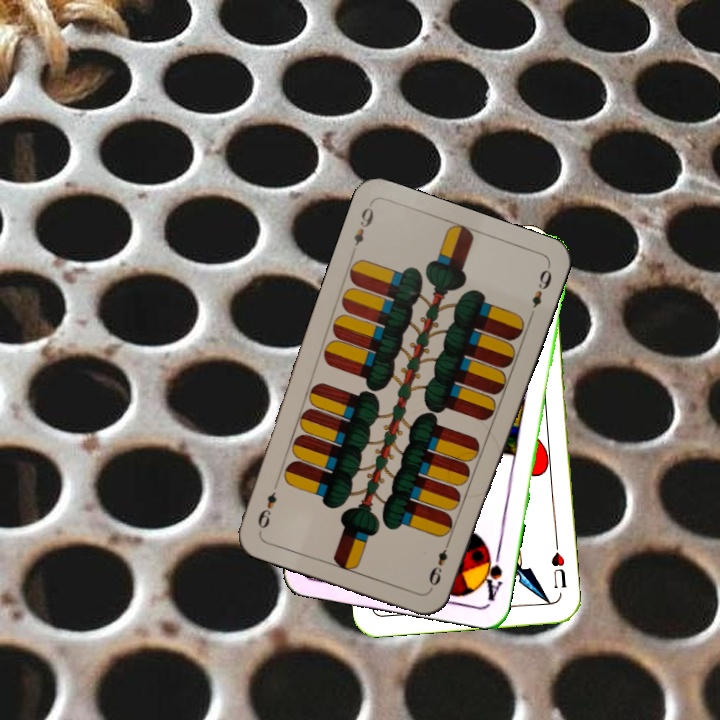E9: (424, 535, 453, 592), (350, 203, 377, 249)
HU: (547, 548, 569, 592)
SA: (477, 542, 506, 603)
